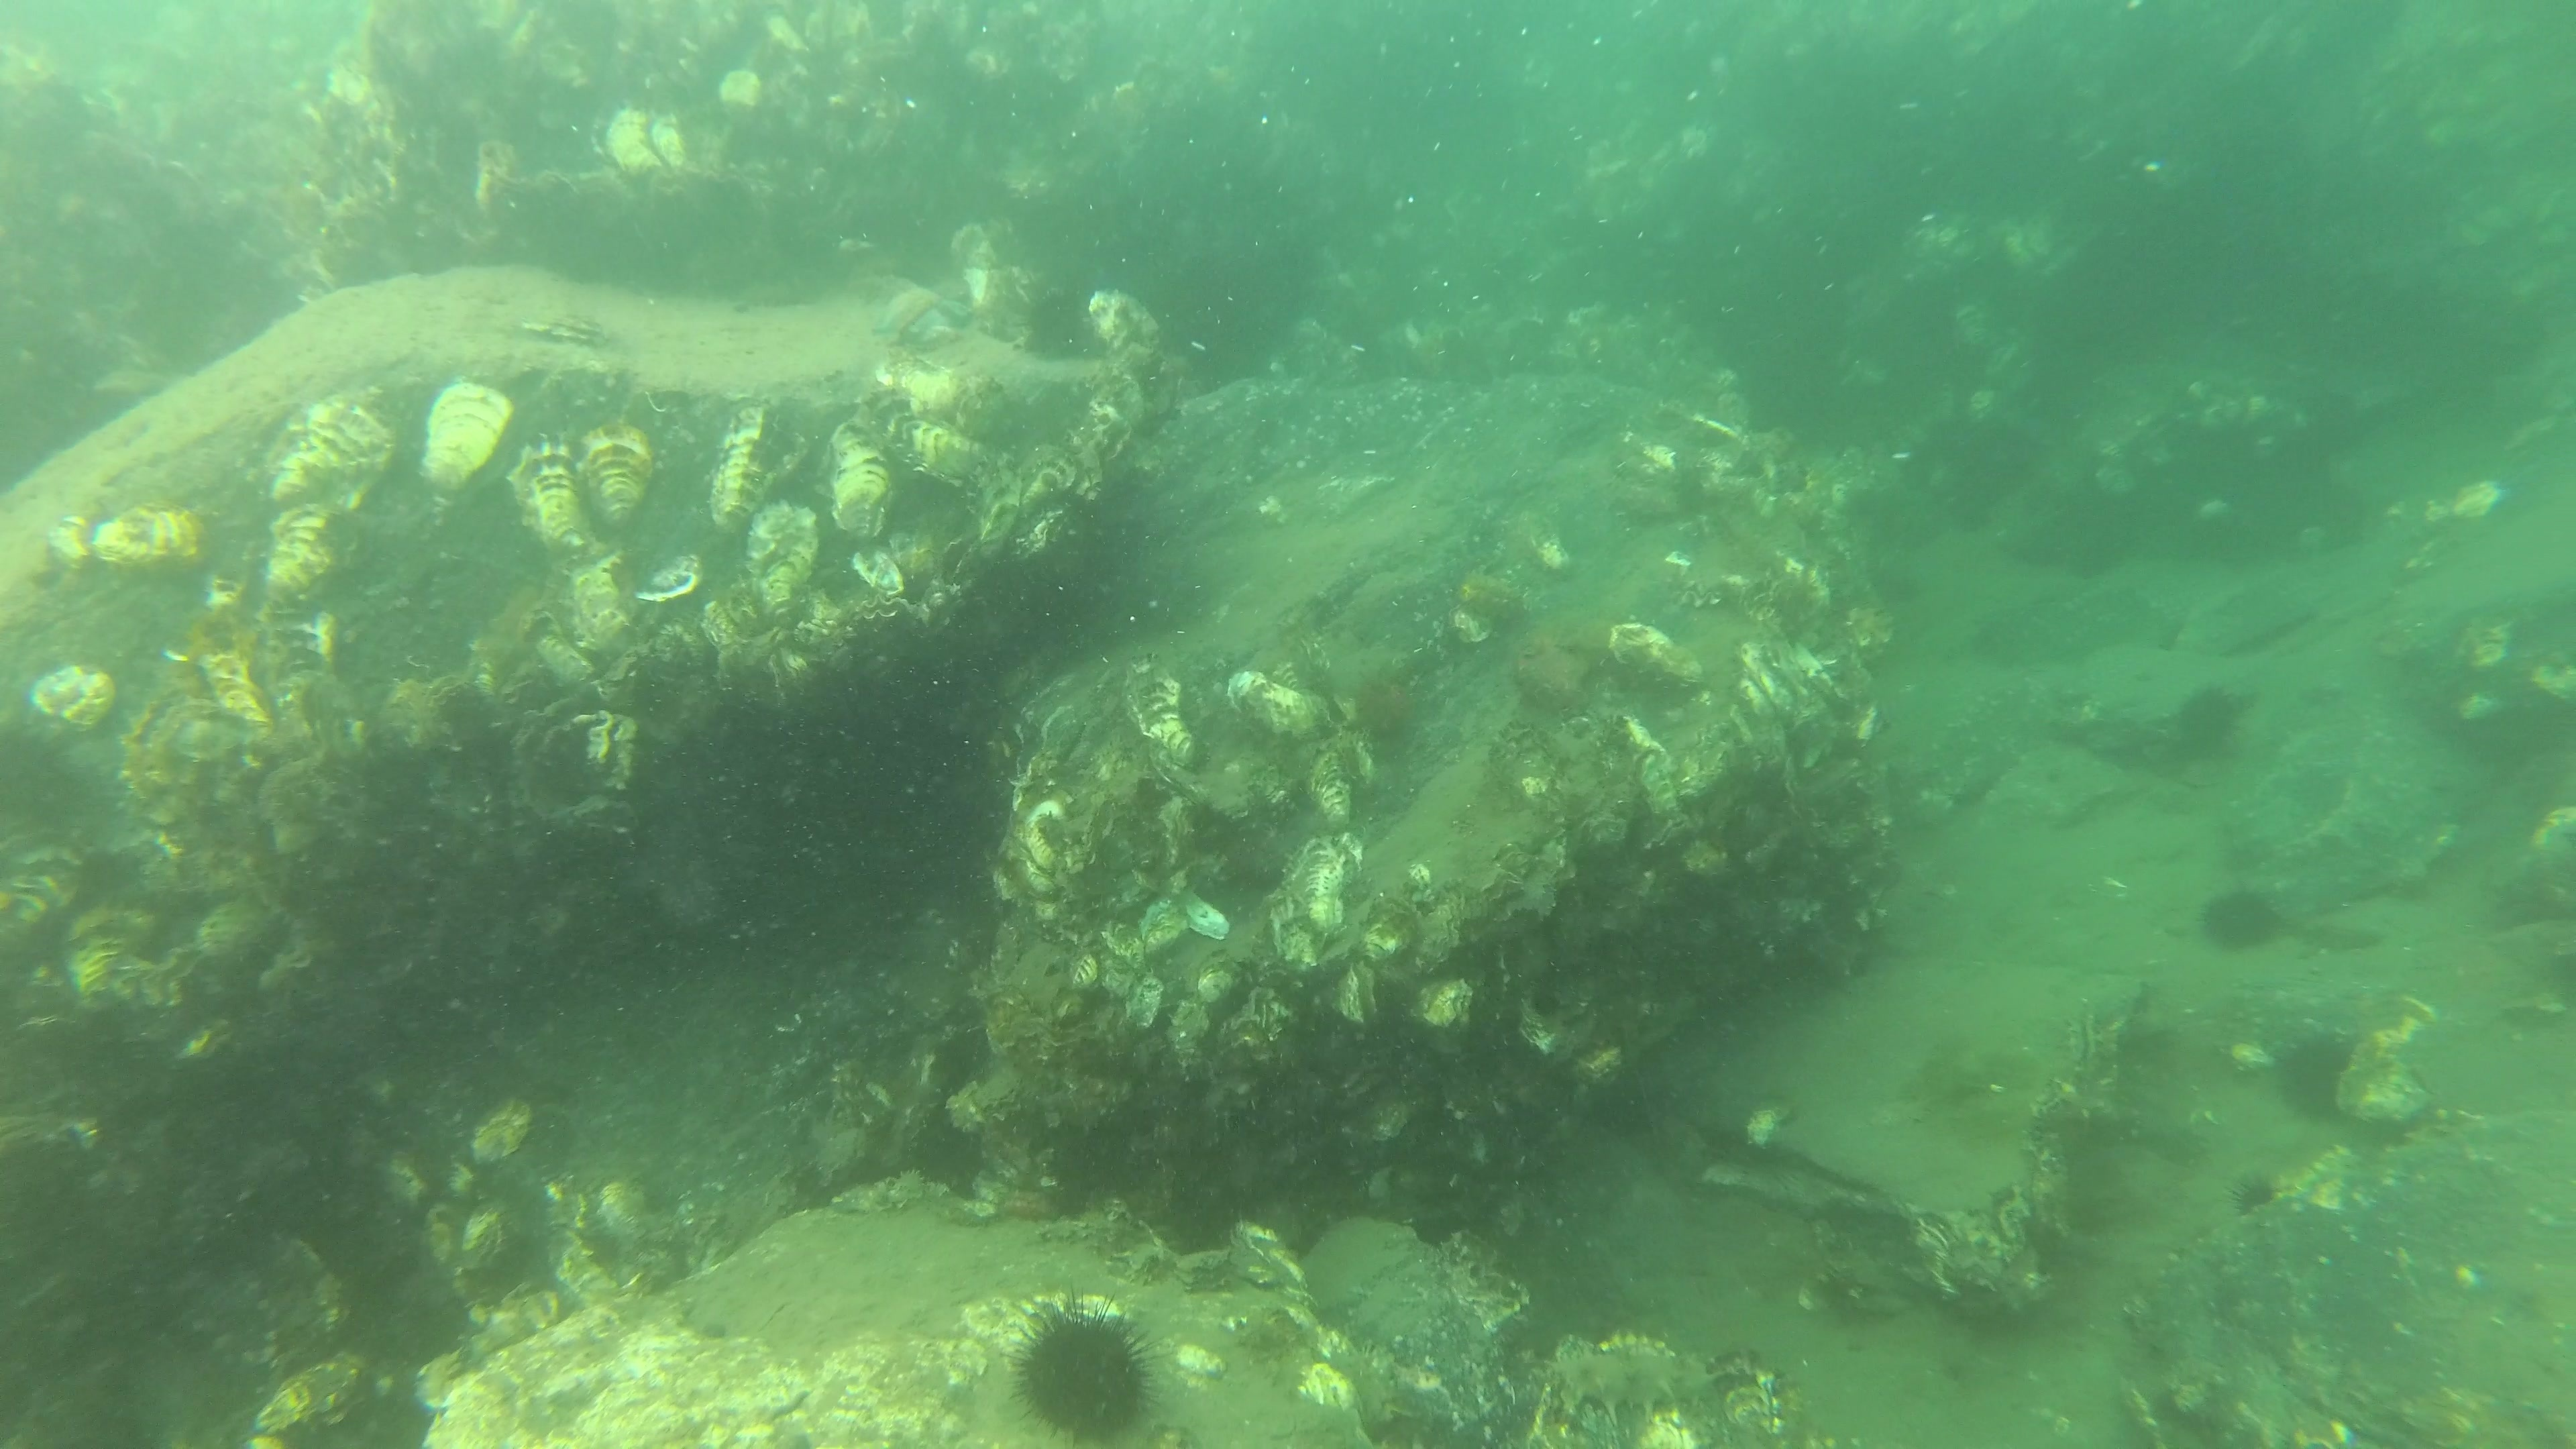echinus: (1016, 1304, 1152, 1447), (2263, 1016, 2373, 1127), (2194, 890, 2272, 954), (2183, 688, 2243, 752), (2238, 1177, 2277, 1215)
